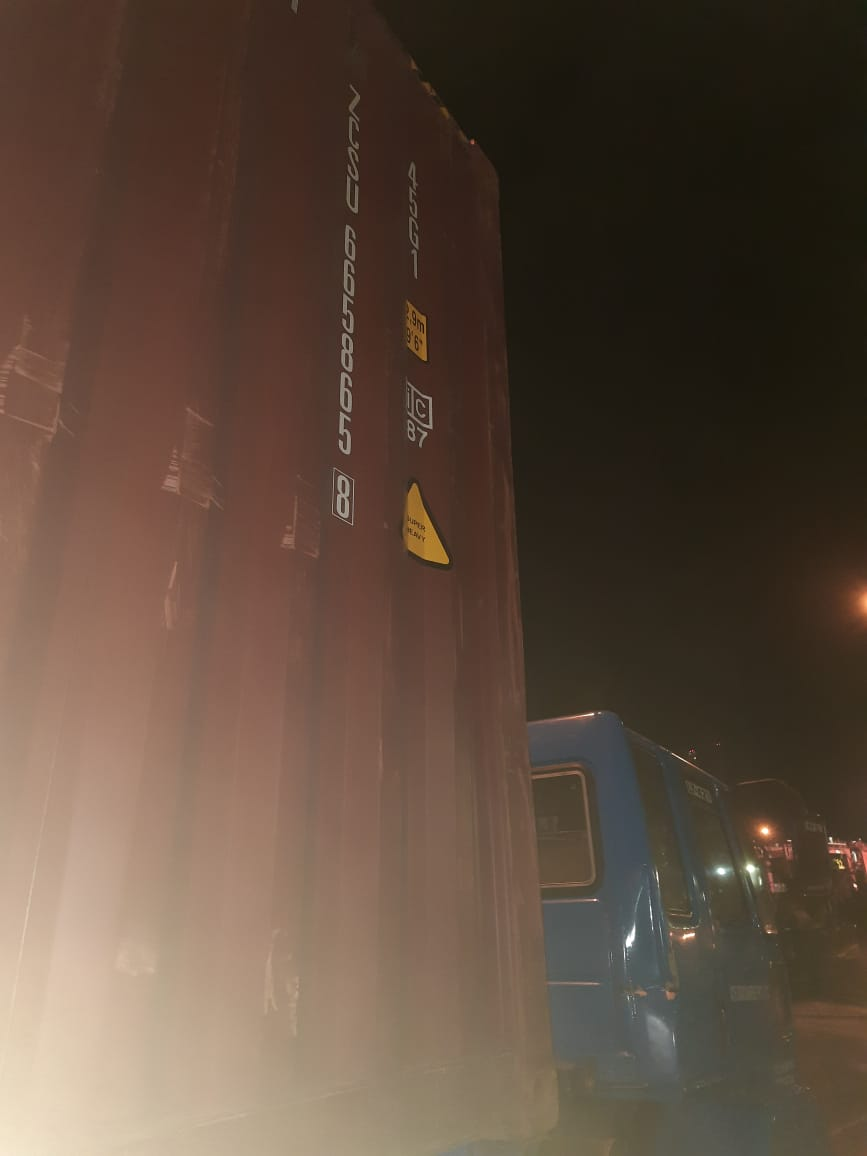right_side: (1, 1, 552, 1121)
